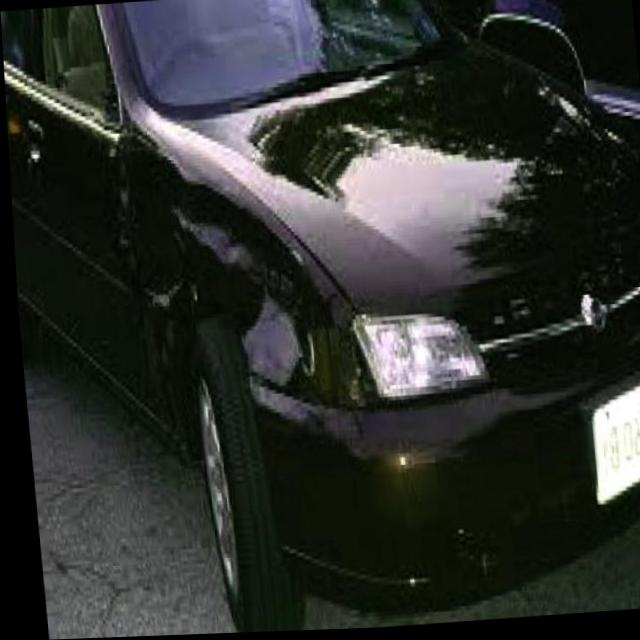Car-Damage: (99, 130, 371, 456)
